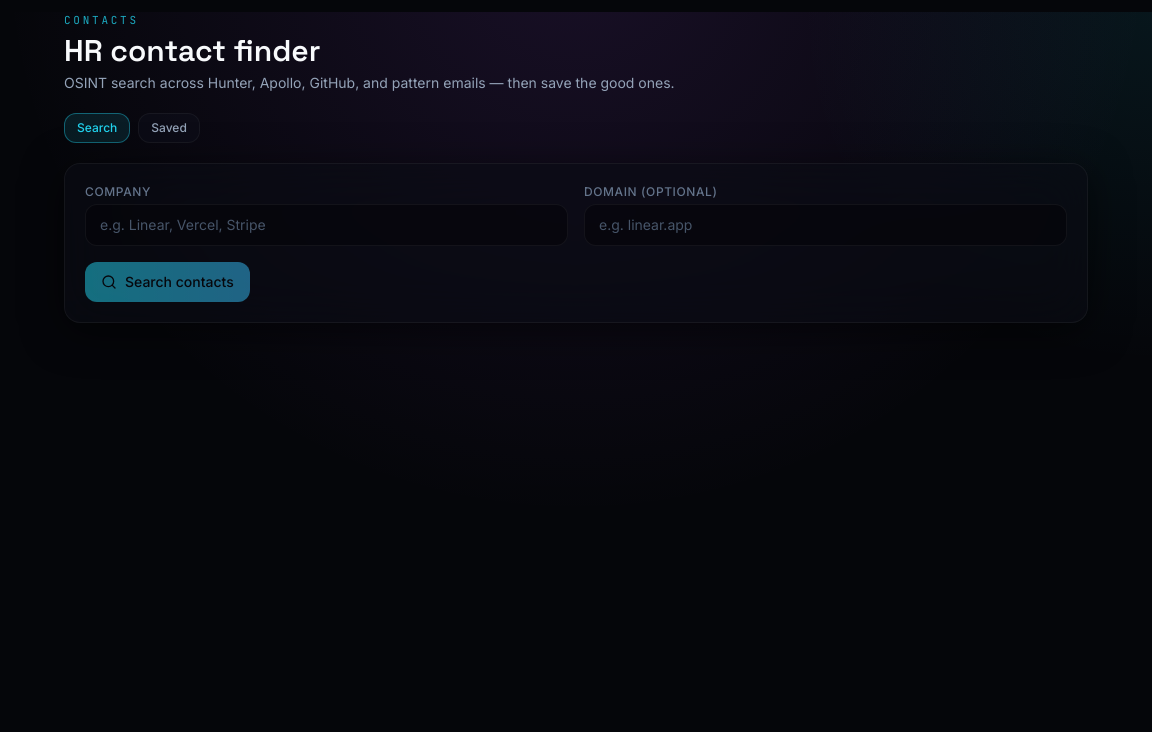
Test: ContactsPage › shows the empty state when no contacts are found
Step 1. Type "Stripe" into the field with placeholder "e.g. Linear, Vercel, Stripe" → (326, 224), box [85,204,568,246]
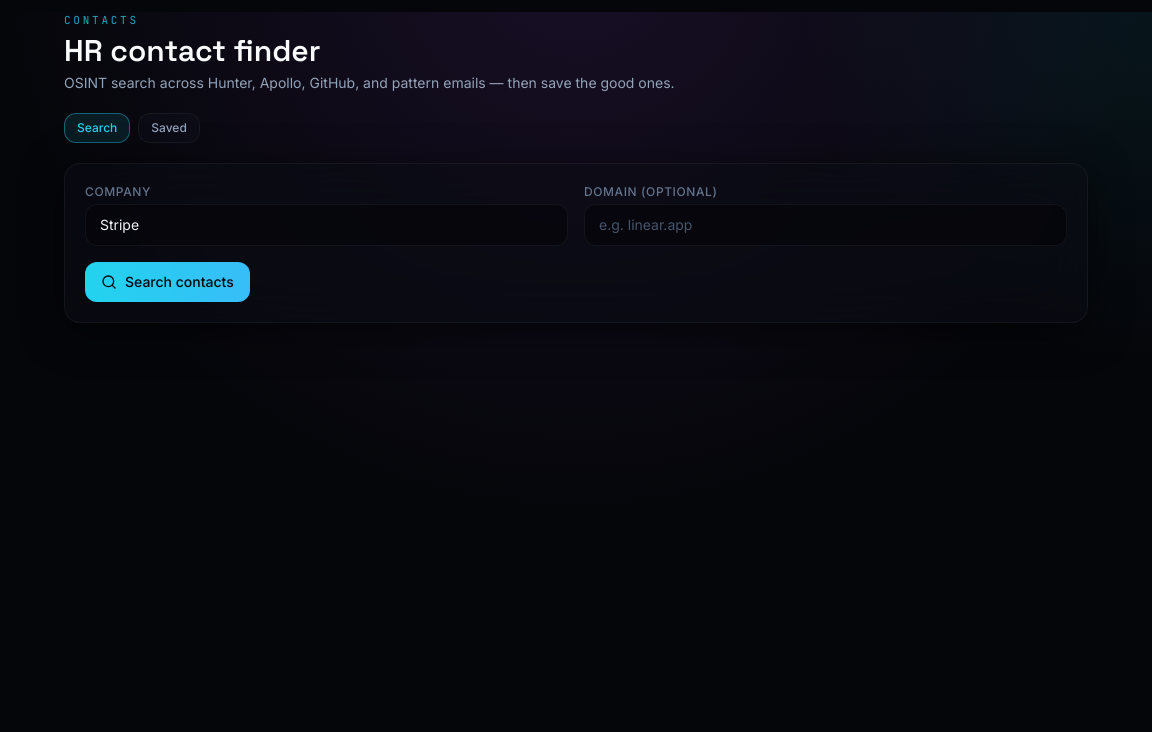
Step 2. Click the button "Search contacts" → click(167, 282), box [85,262,250,302]
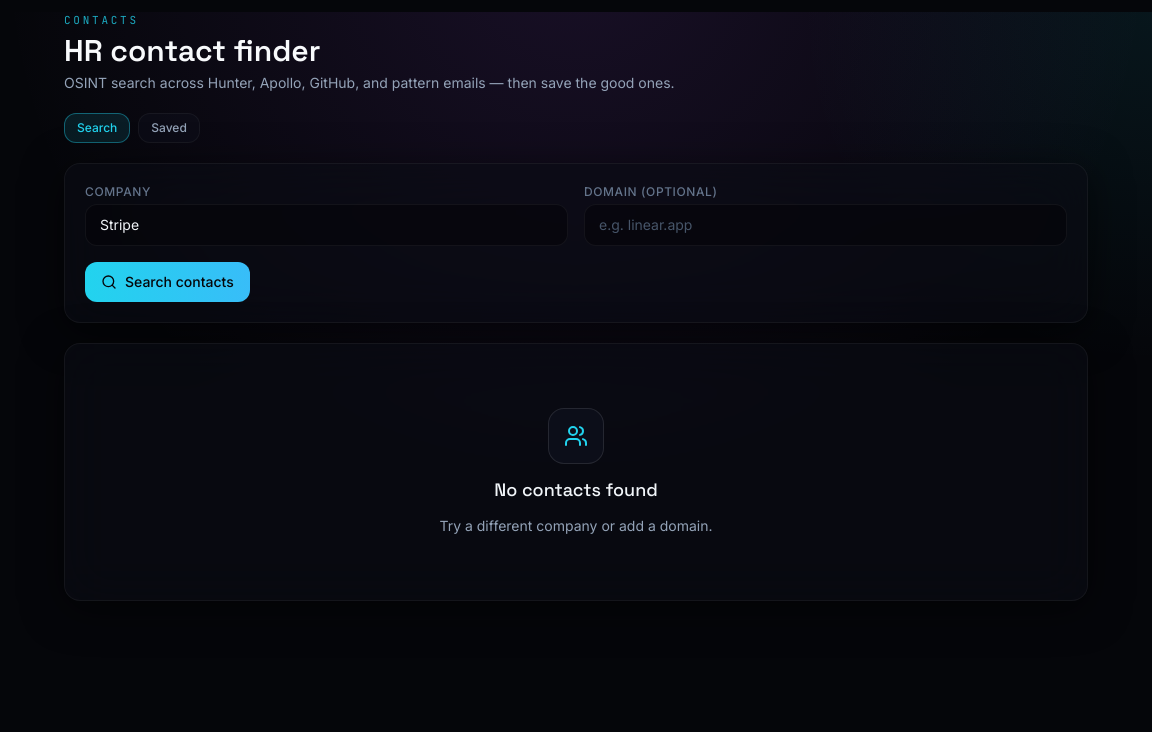
Result: the heading "No contacts found" is shown at [494,476,658,504]
